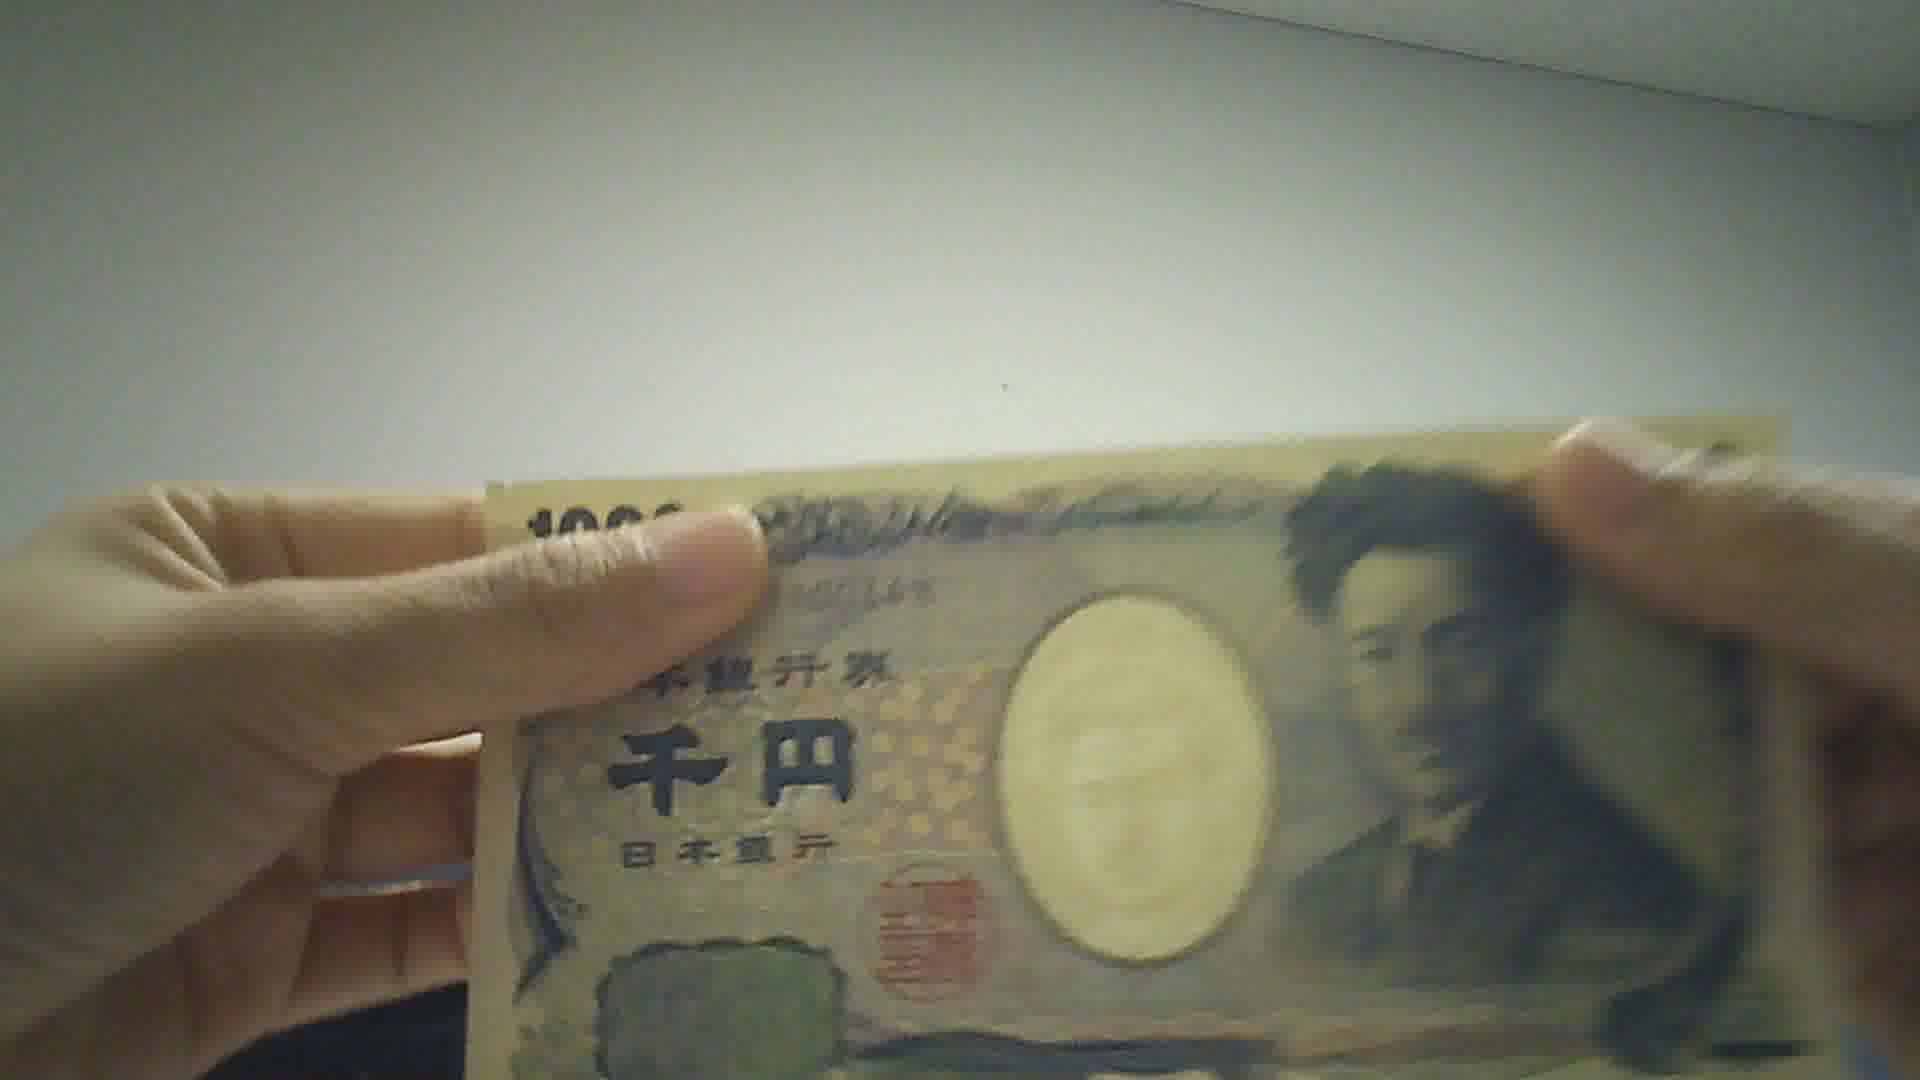1,000 Yen: (460, 462, 1716, 1079)
